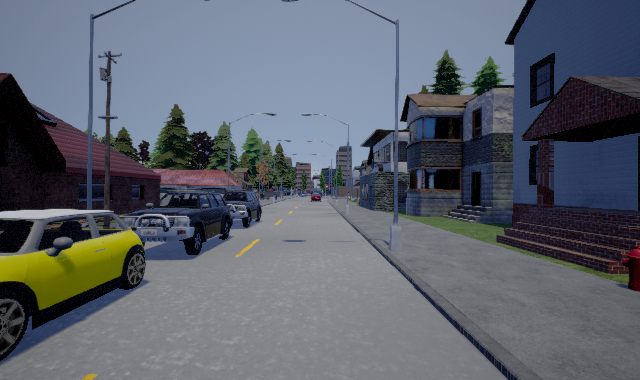vehicle: (1, 209, 145, 359), (125, 189, 233, 255), (223, 188, 264, 228), (310, 191, 322, 202)
